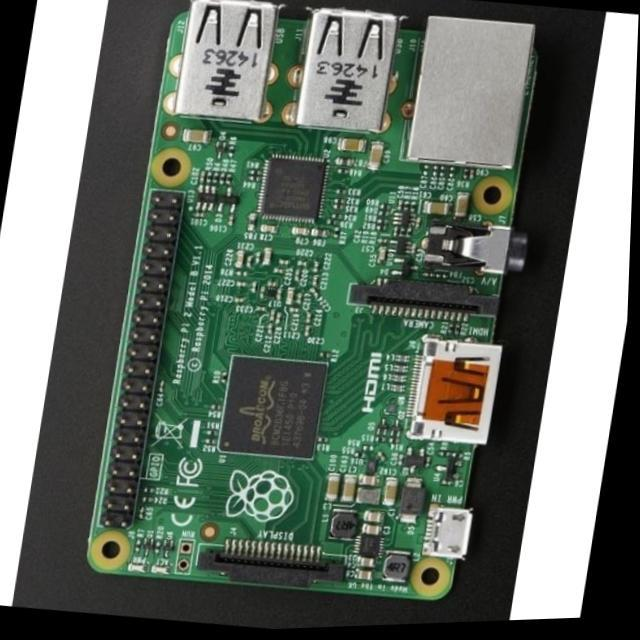Raspberry-Pi-2-B: (90, 1, 539, 602)
